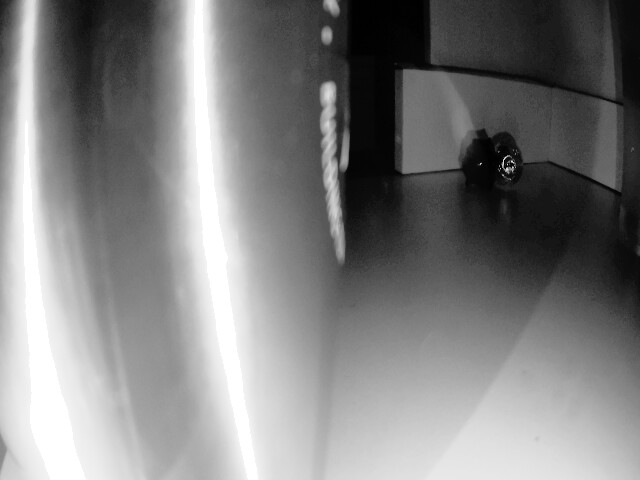black: (466, 146, 494, 184)
silver: (492, 143, 526, 182)
